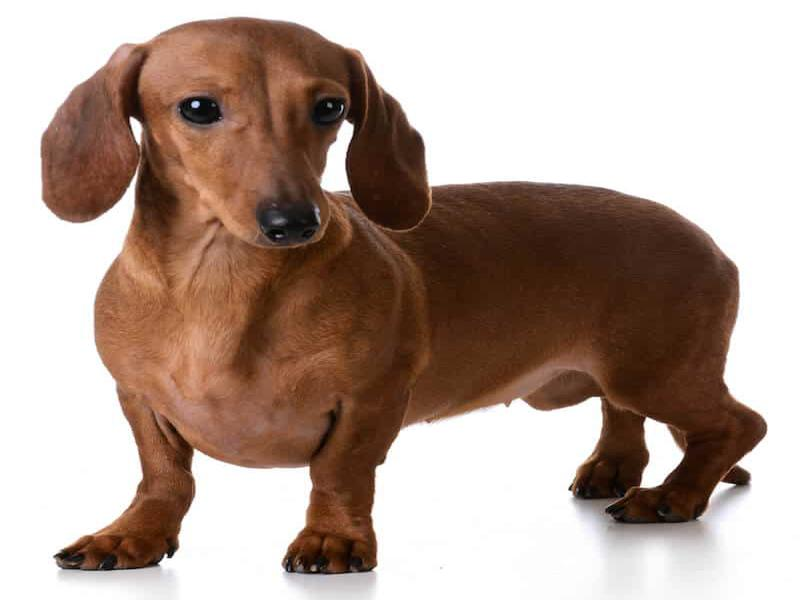dog_stand: (30, 13, 772, 581)
